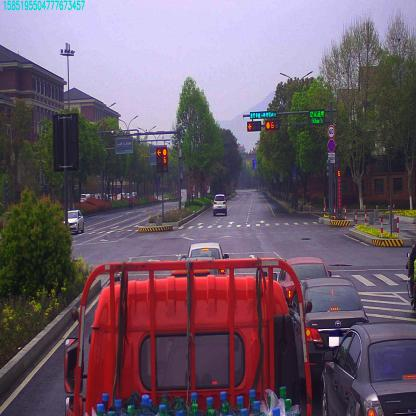traffic-light: (250, 110, 276, 118), (264, 119, 280, 132), (248, 120, 260, 129)
